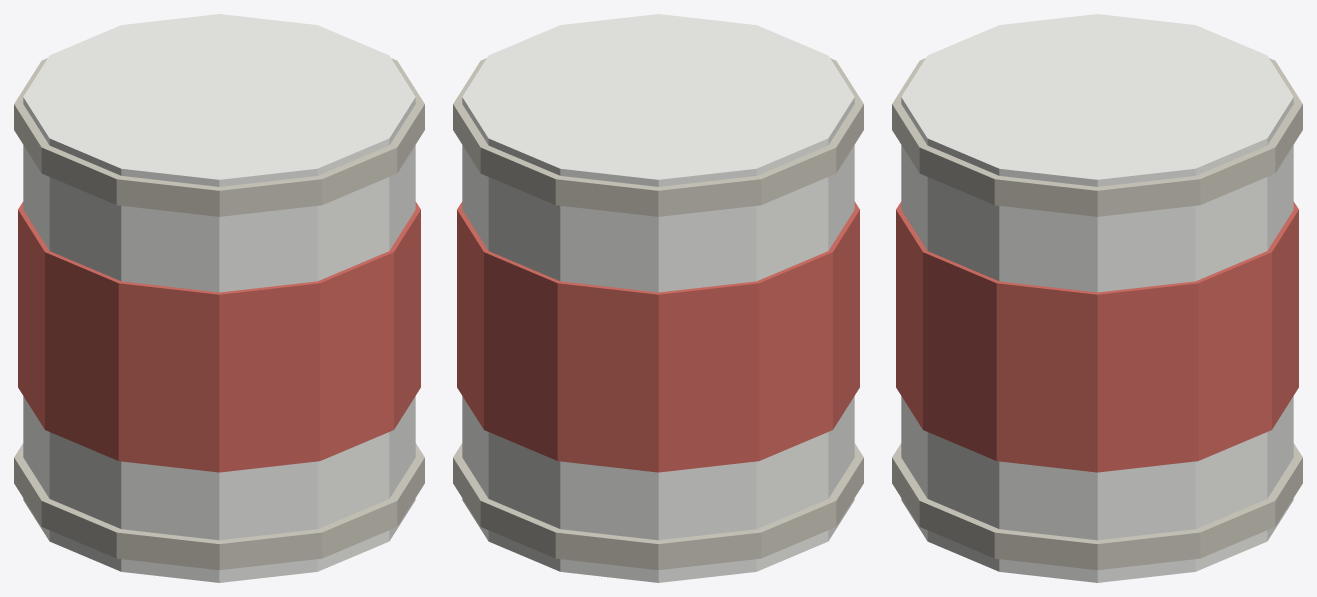
The model's file is lighthouse-and-rocky-coast-lighthouse-tower-stage-band-80a483a5__36584.glb.
3 views of the same model, side by side, from view 1: azimuth 30°, elevation 25°; view 2: azimuth 150°, elevation 25°; view 3: azimuth 270°, elevation 25° (orthographic).
Visible parts, largest first — view 1: lighthouse-tower-stage-banded; view 2: lighthouse-tower-stage-banded; view 3: lighthouse-tower-stage-banded.
Boxes of the visible parts, box(x1,y1,x2,y2) form: lighthouse-tower-stage-banded: box(14, 14, 424, 582); lighthouse-tower-stage-banded: box(453, 14, 863, 582); lighthouse-tower-stage-banded: box(892, 14, 1302, 582).
Bounding box in the file's own units: 3.14 × 3.4 × 3.14.
